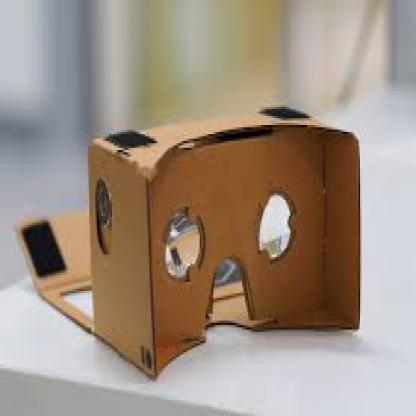CARDBOARD: (88, 105, 360, 380), (14, 209, 348, 332)
